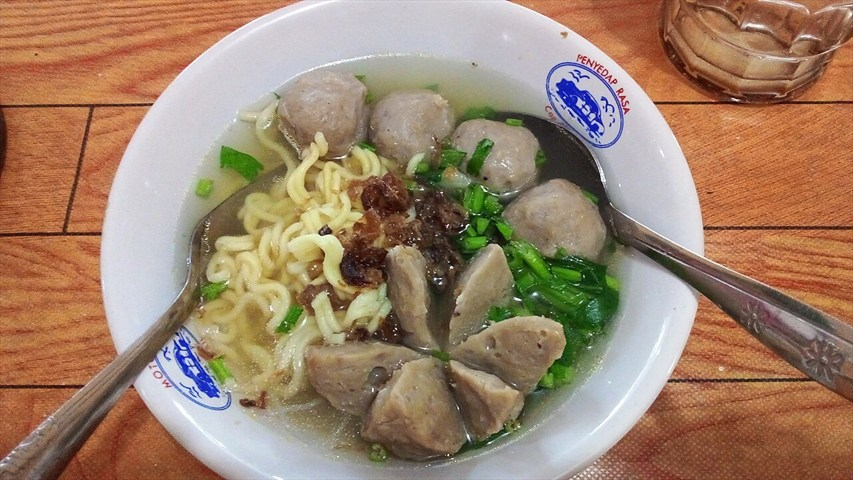Bakso: (119, 51, 723, 413)
